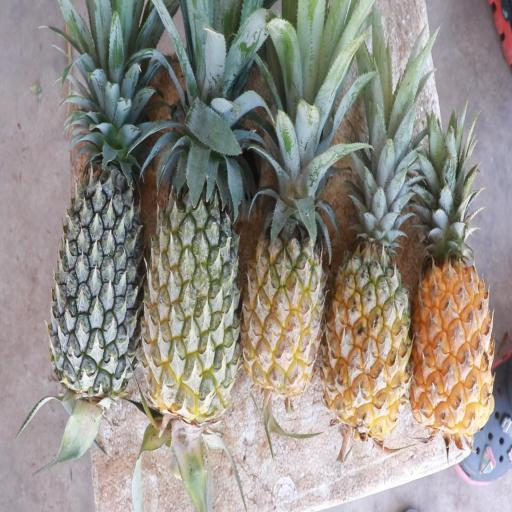------------------------------: (144, 138, 238, 415)
Pineapple - v8 v1: (324, 196, 410, 429), (413, 198, 492, 430), (245, 165, 322, 394)
